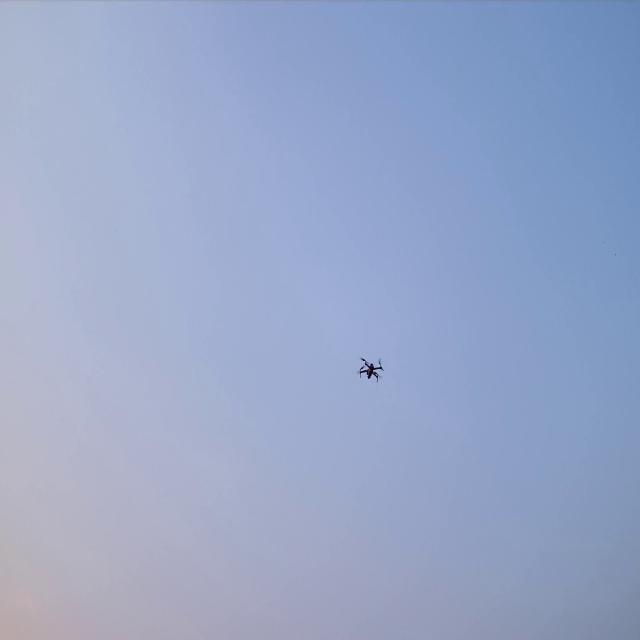UAV: (356, 356, 385, 384)
